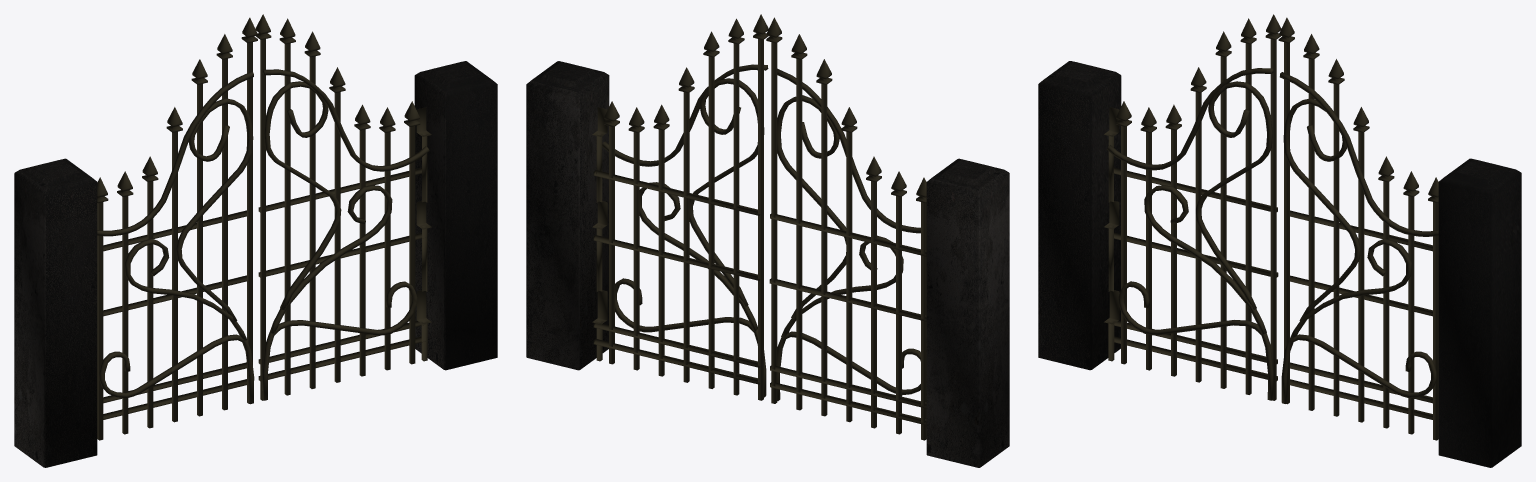
File: gate.glb
3 renders of one model, left to right at view 1: azimuth 30°, elevation 25°; view 2: azimuth 150°, elevation 25°; view 3: azimuth 330°, elevation 25°, orthographic.
Parts seen in each view (by area): view 1: zabor_Cube.000, kolonny_Cube.000; view 2: zabor_Cube.000, kolonny_Cube.000; view 3: zabor_Cube.000, kolonny_Cube.000.
Boxes of the visible parts, left/top/right/bottom form: zabor_Cube.000: left=97, top=14, right=431, bottom=440; kolonny_Cube.000: left=14, top=61, right=497, bottom=467; zabor_Cube.000: left=592, top=14, right=926, bottom=440; kolonny_Cube.000: left=526, top=61, right=1009, bottom=467; zabor_Cube.000: left=1104, top=14, right=1438, bottom=440; kolonny_Cube.000: left=1038, top=61, right=1521, bottom=467.
Bounding box in the file's own units: 6.38 × 5.19 × 0.755.
2 materials, 1 textured.
